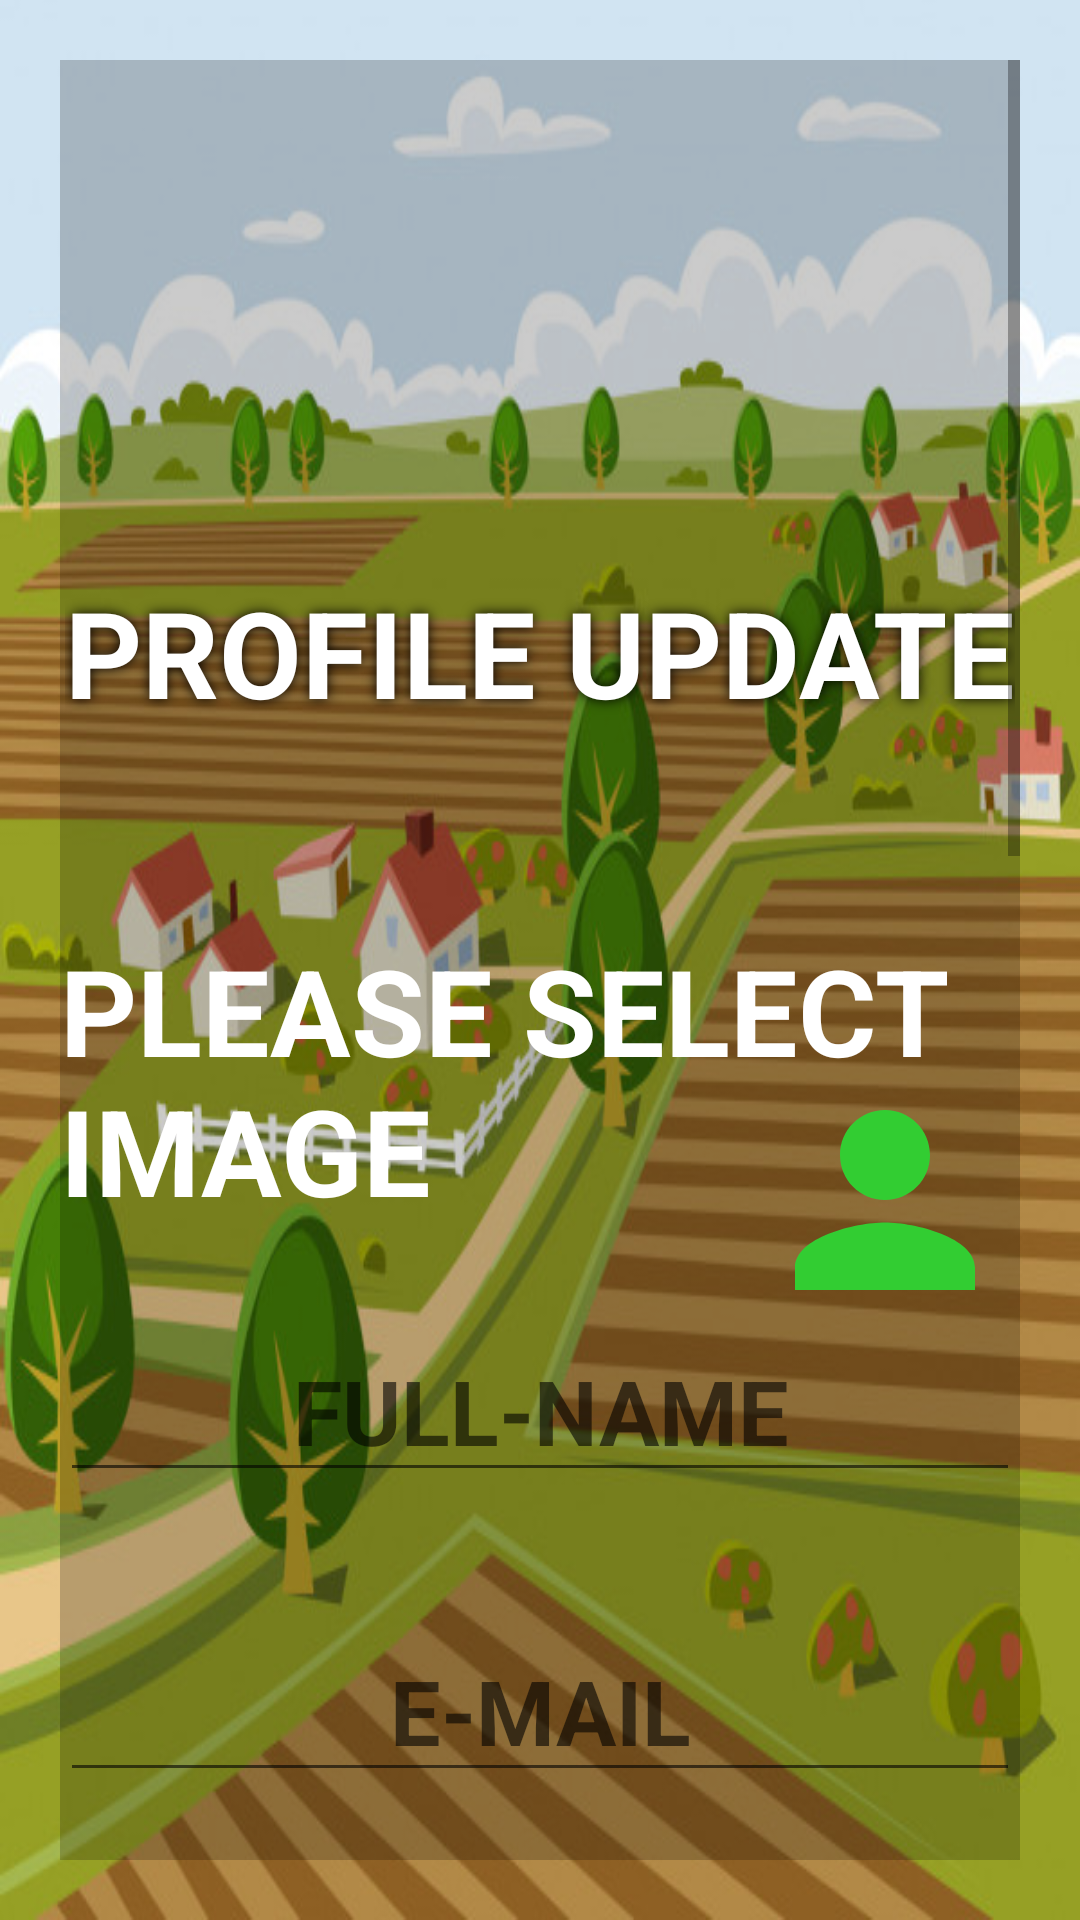

Icon click points for this 1080 × 1920 phone screenshot, format (x=x, y=y):
person: (x=885, y=1200)
